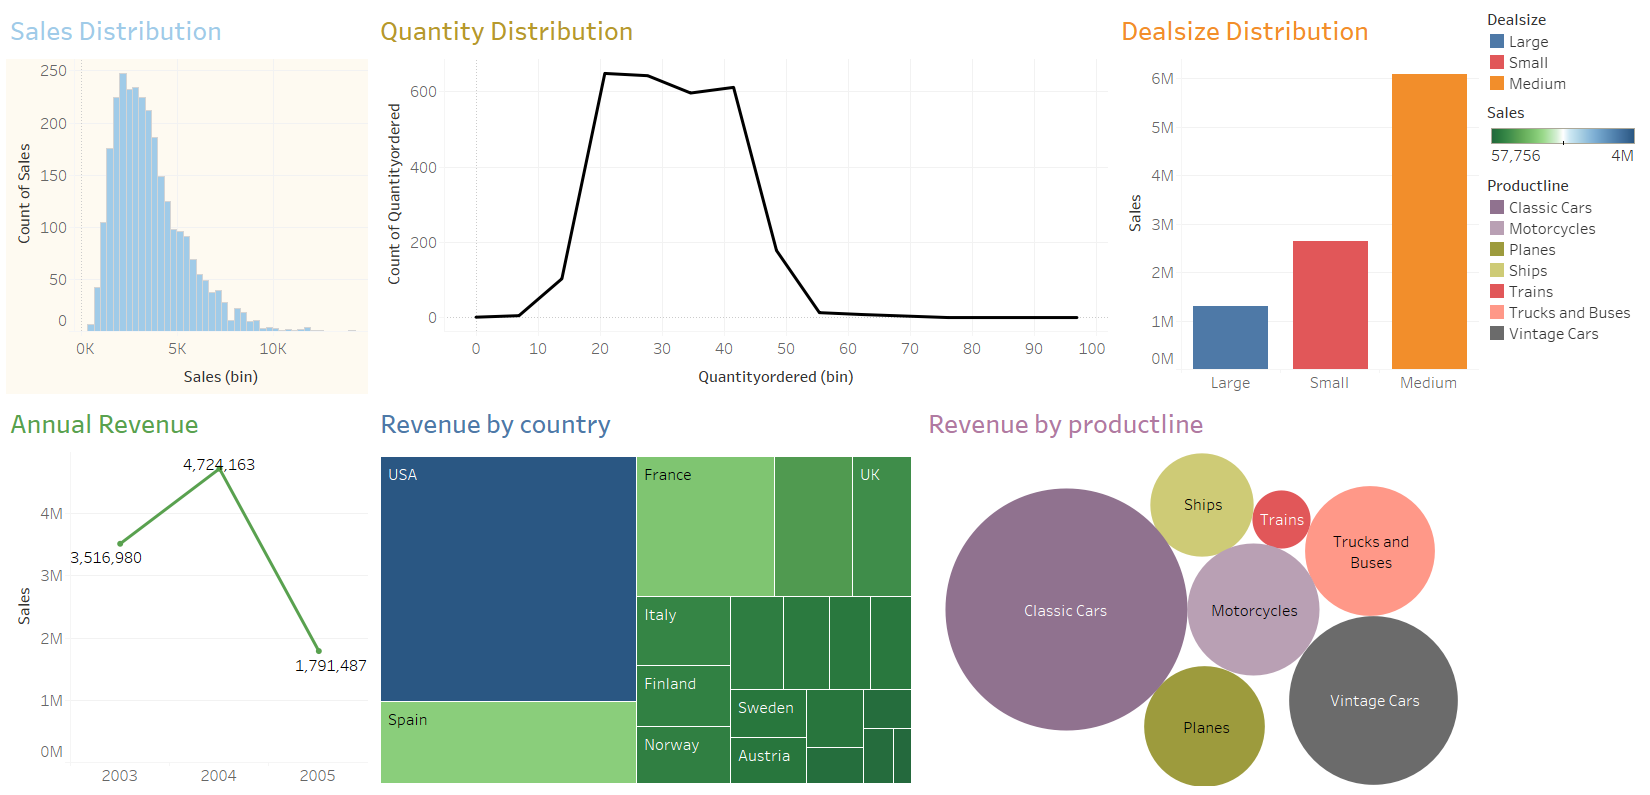

The dashboard page shown, as its layout file describes it:
{"tool":"tableau","page":{"name":"SalesDashboard1","canvas":[1000,1000],"units":"permille","ordinal":0},"visuals":[{"type":"worksheet","title":"Sales Distribution","mark":"Bar","rows":["SALES"],"cols":["Sales (bin)"],"box":[4.8,10,223.4,490]},{"type":"worksheet","title":"Quantity Distribution","mark":"Line","rows":["QUANTITYORDERED"],"cols":["Quantityordered (bin)"],"box":[228.2,10,446.9,490]},{"type":"worksheet","title":"Dealsize Distribution","mark":"Bar","rows":["SALES"],"cols":["DEALSIZE"],"box":[675.1,10,223.5,490]},{"type":"legend","title":"Dealsize Distribution","param":"[federated.0qrt0lt1fm83l2168r84a05kqjxi].[none:DEALSIZE:nk]","box":[898.6,10,96.6,116.1]},{"type":"legend","title":"Revenue by country","param":"[federated.0qrt0lt1fm83l2168r84a05kqjxi].[sum:SALES:qk]","box":[898.6,126.1,96.6,91.1]},{"type":"legend","title":"Revenue by productline","param":"[federated.0qrt0lt1fm83l2168r84a05kqjxi].[none:PRODUCTLINE:nk]","box":[898.6,217.2,96.6,221]},{"type":"worksheet","title":"Annual Revenue","mark":"Line","rows":["SALES"],"cols":["YEAR_ID"],"box":[4.8,500,223.4,490]},{"type":"worksheet","title":"Revenue by country","mark":"Automatic","box":[228.2,500,330.4,490]},{"type":"worksheet","title":"Revenue by productline","mark":"Circle","box":[558.6,500,340,490]}]}

Visuals, with their boxes on the dashboard's canvas, which has no fixed pixel size, in thousandths of its width and height (x1, y1, x2, y2). These are canvas units, not pixel positions in the 1650x795 screenshot, which may show the page scaled, cropped or inside an application window:
"Sales Distribution" worksheet (Bar marks): bbox=[5, 10, 228, 500]
"Quantity Distribution" worksheet (Line marks): bbox=[228, 10, 675, 500]
"Dealsize Distribution" worksheet (Bar marks): bbox=[675, 10, 899, 500]
"Dealsize Distribution" legend: bbox=[899, 10, 995, 126]
"Revenue by country" legend: bbox=[899, 126, 995, 217]
"Revenue by productline" legend: bbox=[899, 217, 995, 438]
"Annual Revenue" worksheet (Line marks): bbox=[5, 500, 228, 990]
"Revenue by country" worksheet: bbox=[228, 500, 559, 990]
"Revenue by productline" worksheet (Circle marks): bbox=[559, 500, 899, 990]
